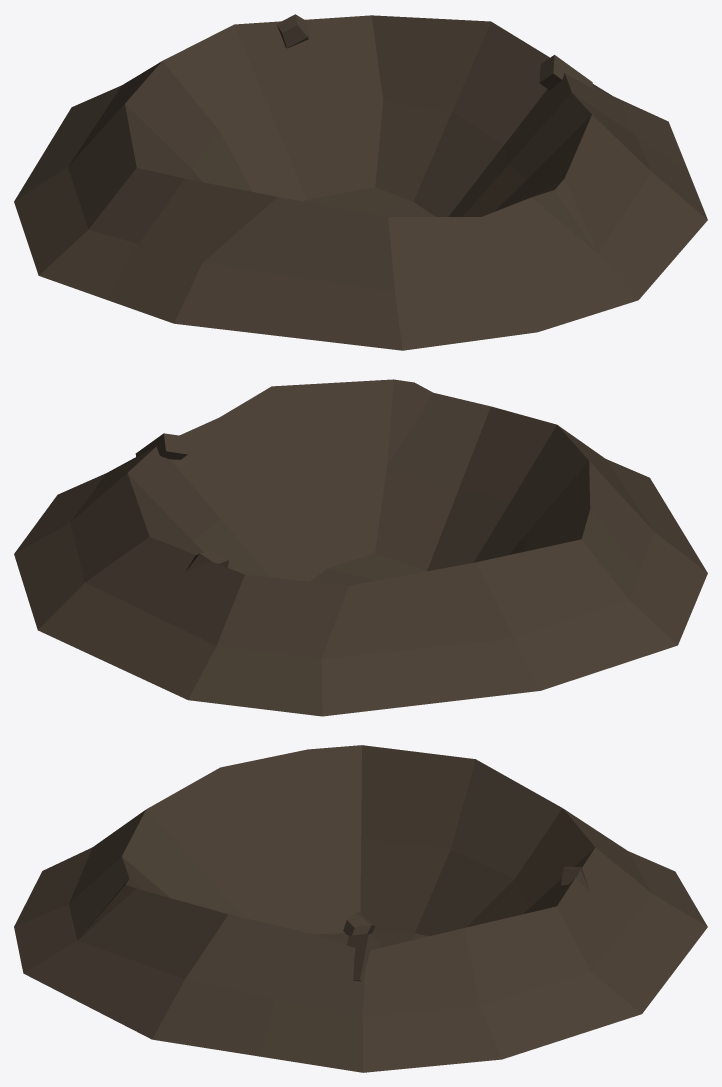
File: crater-deep.fbx
The picture shows the model from 3 angles, top to bottom: view 1: azimuth 30°, elevation 25°; view 2: azimuth 150°, elevation 25°; view 3: azimuth 270°, elevation 25°; orthographic projection. The views are drawn at different scales.
Visible parts, largest first — view 1: crater-deep; view 2: crater-deep; view 3: crater-deep.
Part boxes in pixels (box(x1,y1,x2,y2)): crater-deep: box(14, 14, 707, 350); crater-deep: box(14, 379, 707, 716); crater-deep: box(14, 745, 707, 1072).
Size of the model in its own units: 5.78 by 1.35 by 5.78.
